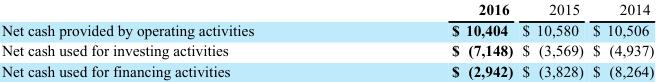table: (0, 0, 653, 79)
table column: (0, 0, 352, 79), (352, 0, 516, 79), (516, 0, 587, 79), (587, 0, 653, 79)
table column header: (0, 0, 653, 19)
table row: (0, 39, 653, 60), (0, 19, 653, 39), (0, 0, 653, 19), (0, 60, 653, 79)
